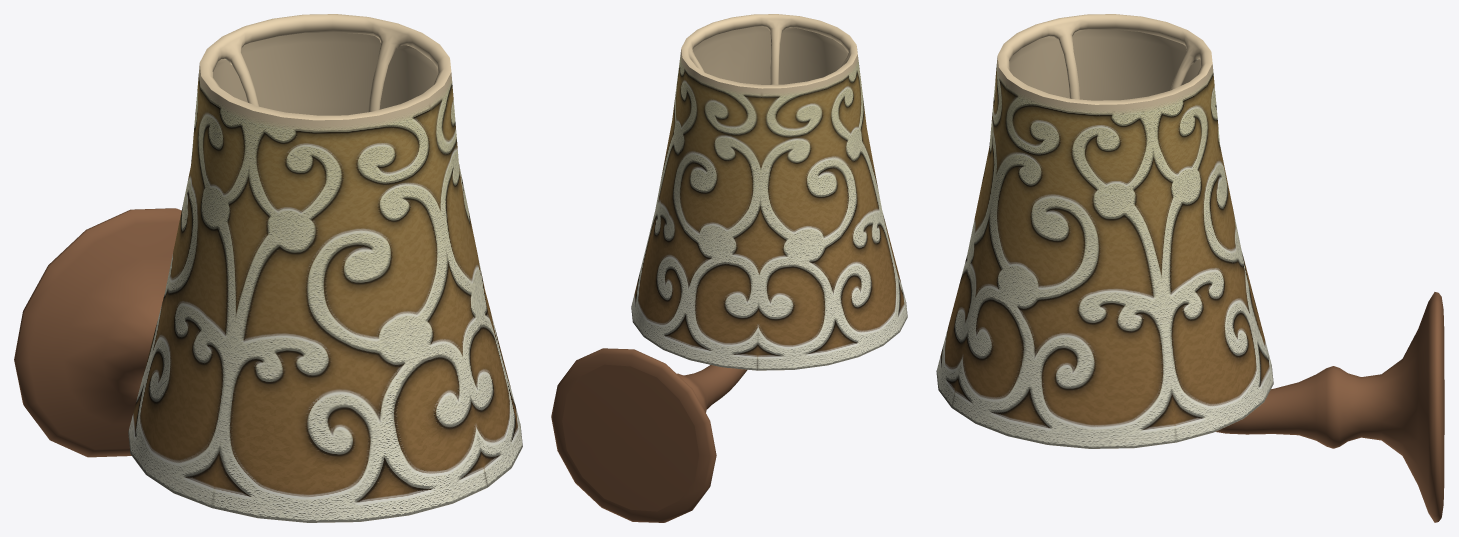
Rendered from CI_089_090_small_wall_lamp.glb.
3 renders of one model, left to right at view 1: azimuth 30°, elevation 25°; view 2: azimuth 150°, elevation 25°; view 3: azimuth 270°, elevation 25°, orthographic. The views are drawn at different scales.
Parts seen in each view (by area): view 1: Lamp, foot; view 2: Lamp, foot; view 3: Lamp, foot.
Boxes of the visible parts, x1,y1,x2,y2 form: Lamp: (128, 14, 522, 522); foot: (14, 208, 181, 457); Lamp: (631, 14, 907, 370); foot: (551, 348, 747, 522); Lamp: (936, 14, 1273, 448); foot: (1216, 292, 1444, 522).
Size of the model in its own units: 0.5012 by 0.745 by 0.7549.
3 materials, 1 textured.
